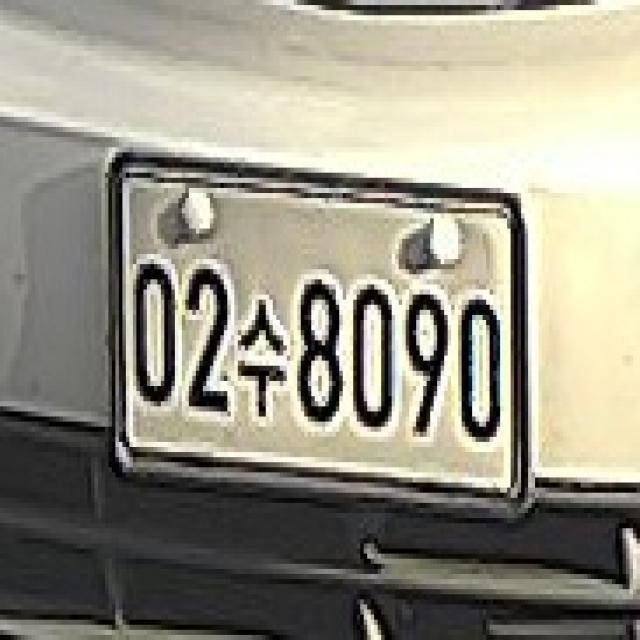0: (352, 272, 403, 454), (454, 295, 510, 448), (133, 239, 181, 414)
2: (188, 262, 232, 434)
8: (296, 270, 349, 448)
9: (403, 280, 456, 452)
license_plate: (105, 139, 541, 533)
su: (234, 284, 286, 428)
